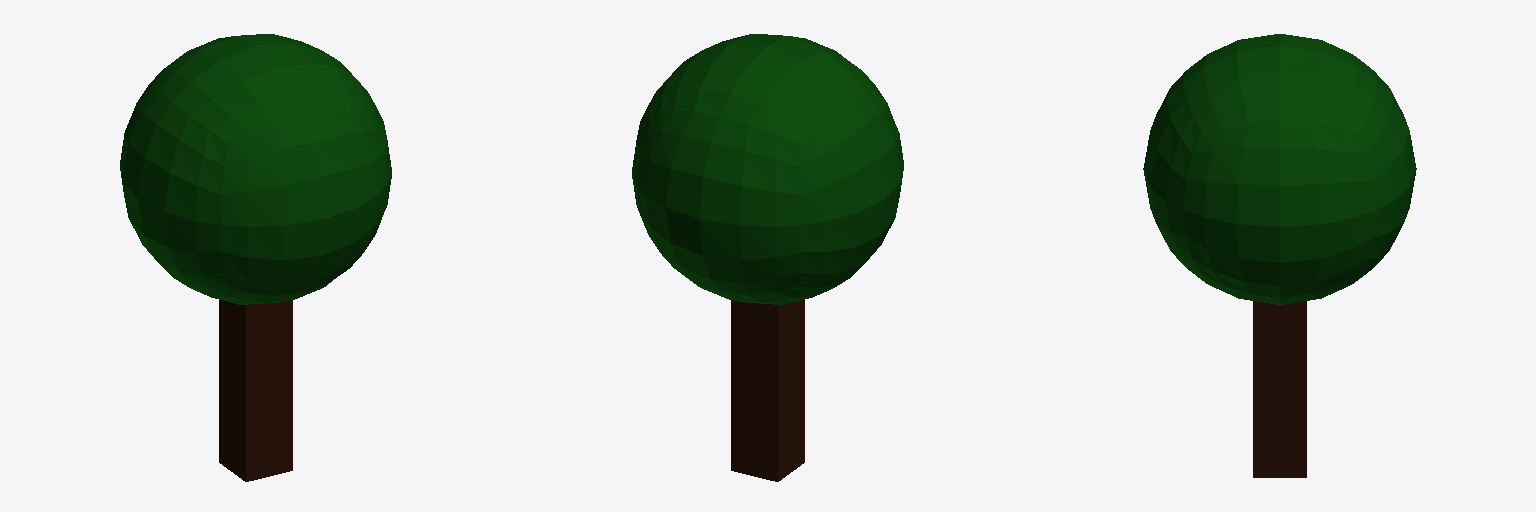
Rendered from tree.obj.
3 renders of one model, left to right at view 1: azimuth 30°, elevation 25°; view 2: azimuth 150°, elevation 25°; view 3: azimuth 270°, elevation 25°, orthographic.
Parts seen in each view (by area): view 1: Ball1, Pillar1; view 2: Ball1, Pillar1; view 3: Ball1, Pillar1.
Boxes of the visible parts, x1=… form: Ball1: x1=120, y1=34, x2=391, y2=304; Pillar1: x1=219, y1=300, x2=292, y2=481; Ball1: x1=632, y1=34, x2=903, y2=304; Pillar1: x1=731, y1=300, x2=804, y2=481; Ball1: x1=1143, y1=34, x2=1416, y2=304; Pillar1: x1=1253, y1=301, x2=1306, y2=477.
Bounding box in the file's own units: 10 × 17 × 10.